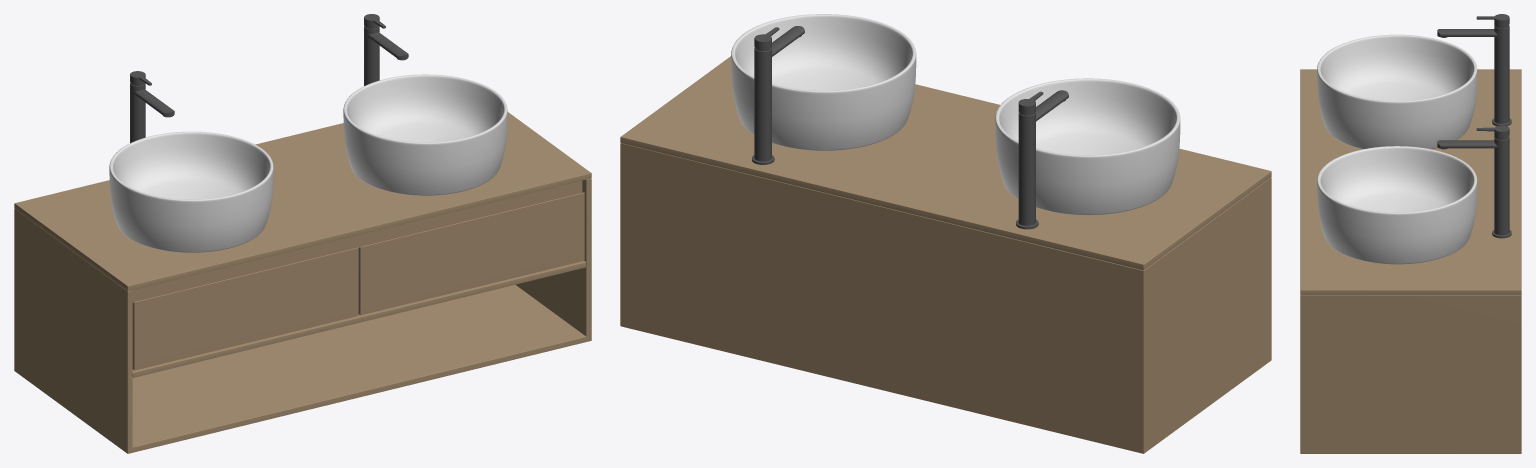
The model's file is Sink_Bathroom.fbx.
3 renders of one model, left to right at view 1: azimuth 30°, elevation 25°; view 2: azimuth 150°, elevation 25°; view 3: azimuth 270°, elevation 25°, orthographic. The views are drawn at different scales.
Parts seen in each view (by area): view 1: Sink_Bathroom; view 2: Sink_Bathroom; view 3: Sink_Bathroom.
Boxes of the visible parts, x1,y1,x2,y2 form: Sink_Bathroom: (14, 14, 591, 453); Sink_Bathroom: (620, 14, 1271, 453); Sink_Bathroom: (1300, 14, 1521, 453).
Size of the model in its own units: 130 by 74.06 by 55.
